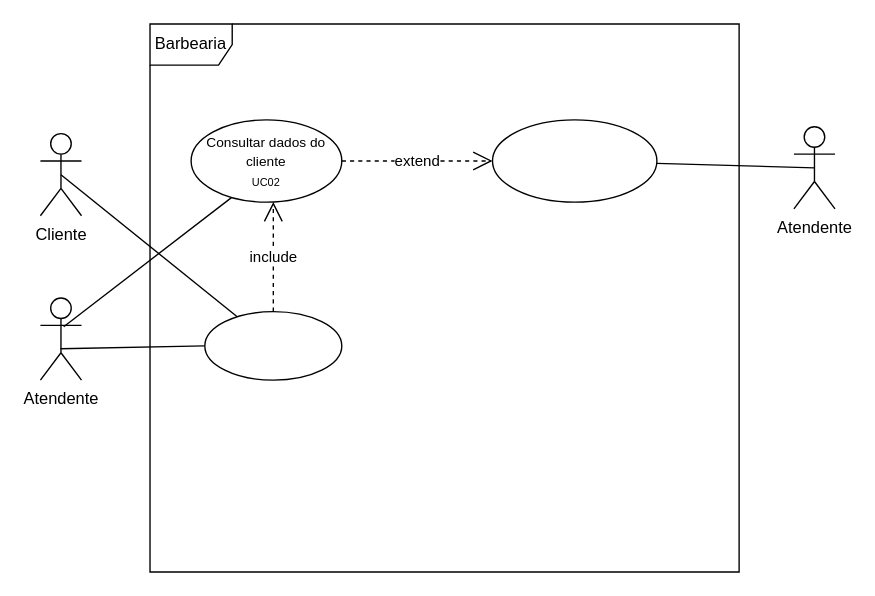
Some shapes in this 875 by 596 pixel diagram are drawn without their labels. Here are the shapes that lost their labels. From the top down, the box of each, then its label:
(491, 119, 657, 202): Cadastrar dados do cliente UC03
(203, 310, 342, 380): Agendar horário UC01
